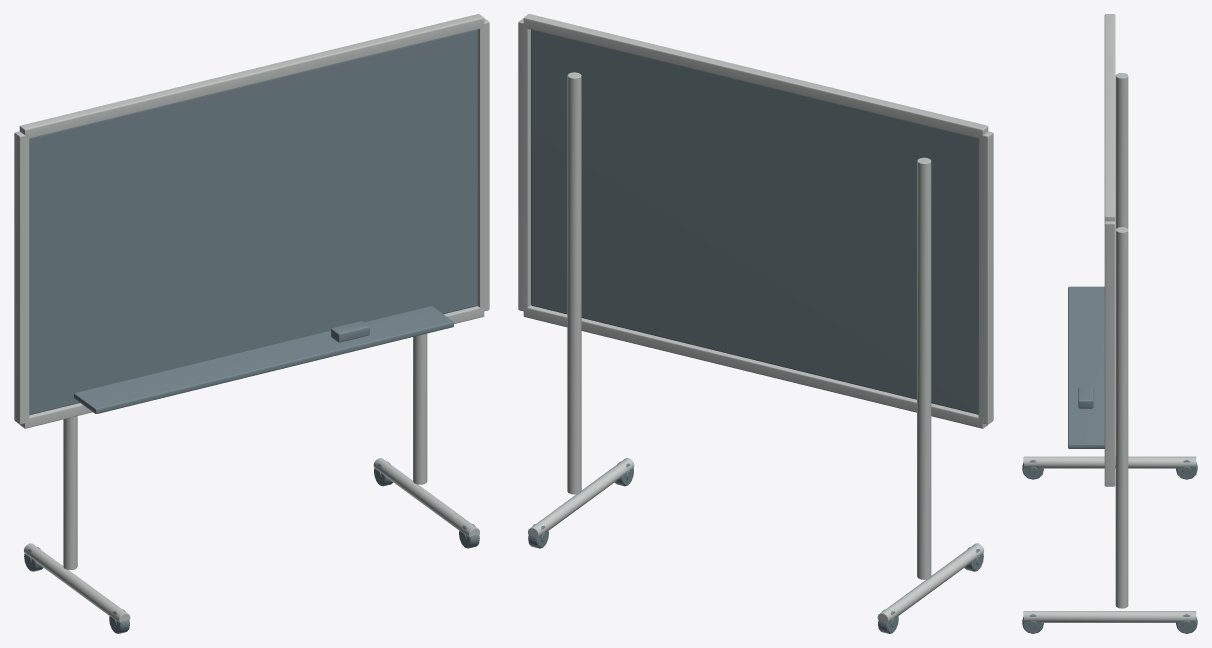
The model's file is blackboard.glb.
3 renders of one model, left to right at view 1: azimuth 30°, elevation 25°; view 2: azimuth 150°, elevation 25°; view 3: azimuth 270°, elevation 25°, orthographic. The views are drawn at different scales.
Visible parts, largest first — view 1: writing_surface, marker_tray, board_frame_rail.001, board_frame_side, board_frame_side.001, board_upright, board_upright.001, rolling_base.001, rolling_base, board_frame_rail; view 2: writing_surface, board_frame_rail.001, board_upright.001, board_upright, board_frame_rail, board_frame_side, board_frame_side.001, rolling_base.001, rolling_base; view 3: marker_tray, board_upright.001, board_frame_side.001, board_frame_rail.001, board_upright, rolling_base.001, rolling_base, eraser.
Part boxes in pixels (x1,y1,x2,y2): writing_surface: (29,29,477,415); marker_tray: (74,306,453,413); board_frame_rail.001: (19,14,484,138); board_frame_side: (14,131,29,424); board_frame_side.001: (477,18,489,311); board_upright: (63,416,77,569); board_upright.001: (413,333,427,484); rolling_base.001: (373,458,479,537); rolling_base: (24,543,130,622); board_frame_rail: (20,306,484,428); writing_surface: (531,29,978,414); board_frame_rail.001: (523,14,988,138); board_upright.001: (567,72,581,494); board_upright: (917,157,931,579); board_frame_rail: (523,305,987,428); board_frame_side: (978,131,993,424); board_frame_side.001: (518,18,530,311); rolling_base.001: (528,458,634,537); rolling_base: (877,543,983,622); marker_tray: (1068,286,1104,448); board_upright.001: (1115,227,1128,608); board_frame_side.001: (1104,221,1115,483); board_frame_rail.001: (1104,14,1115,221); board_upright: (1115,73,1128,229); rolling_base.001: (1023,611,1196,622); rolling_base: (1023,456,1196,468); eraser: (1078,387,1093,408).
Size of the model in its own units: 2.05 by 2.02 by 0.73.
